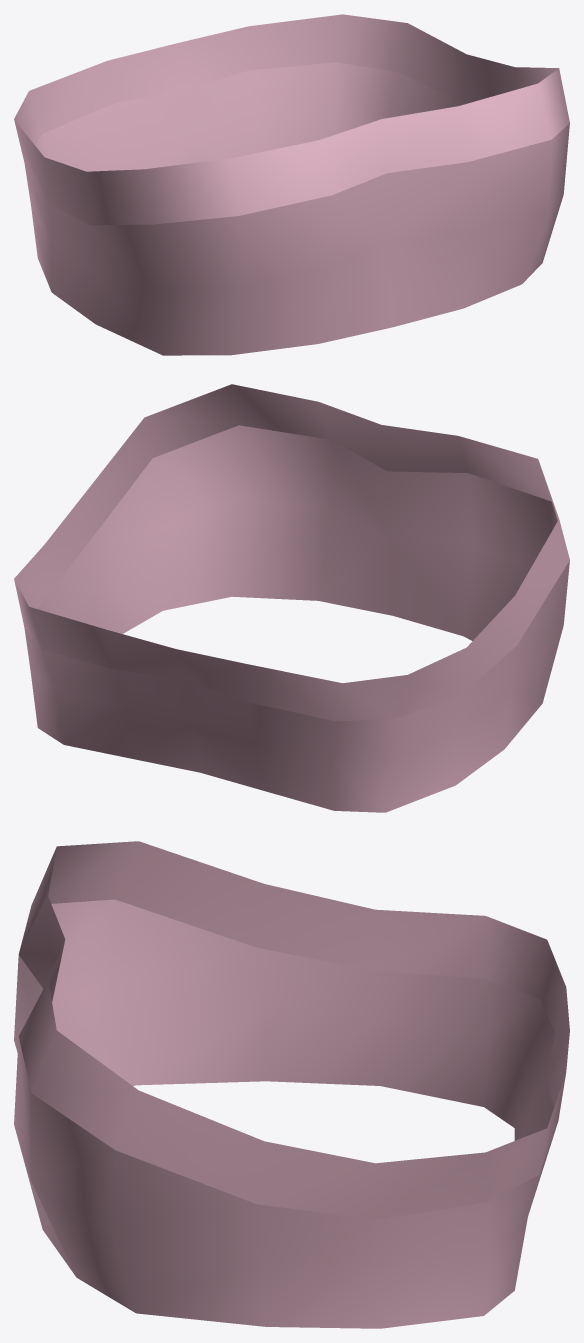
Rendered from blouse_09.glb.
3 views of the same model, one above another, from view 1: azimuth 30°, elevation 25°; view 2: azimuth 150°, elevation 25°; view 3: azimuth 270°, elevation 25° (orthographic). The views are drawn at different scales.
Visible parts, largest first — view 1: Blouse_9; view 2: Blouse_9; view 3: Blouse_9.
Boxes of the visible parts, x1,y1,x2,y2 form: Blouse_9: [14, 14, 569, 355]; Blouse_9: [14, 384, 569, 812]; Blouse_9: [14, 841, 569, 1328].
Size of the model in its own units: 0.2602 by 0.1288 by 0.2375.
